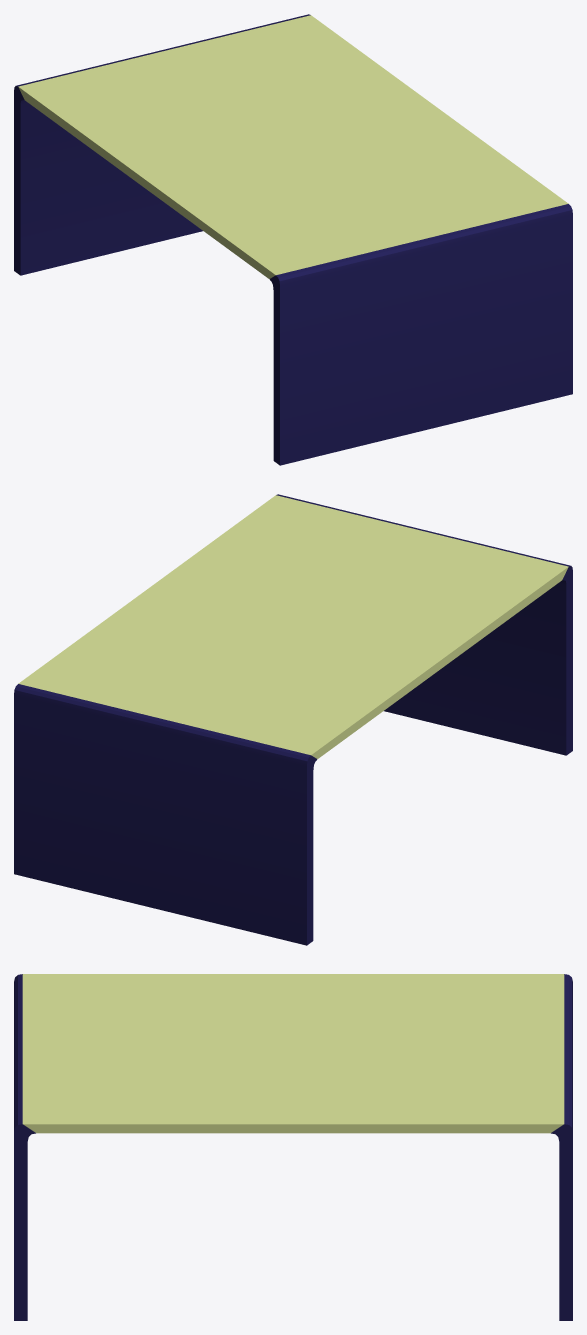
Rendered from Observatory_Table.fbx.
The picture shows the model from 3 angles, top to bottom: view 1: azimuth 30°, elevation 25°; view 2: azimuth 150°, elevation 25°; view 3: azimuth 270°, elevation 25°; orthographic projection. The views are drawn at different scales.
Parts seen in each view (by area): view 1: TableGlass, Table; view 2: TableGlass, Table; view 3: TableGlass, Table.
Boxes of the visible parts, x1,y1,x2,y2 form: TableGlass: (18,15,568,278); Table: (14,14,572,465); TableGlass: (18,495,568,758); Table: (14,494,572,945); TableGlass: (22,974,564,1133); Table: (14,974,572,1320).
Bounding box in the file's own units: 75 × 118 × 45.84.
